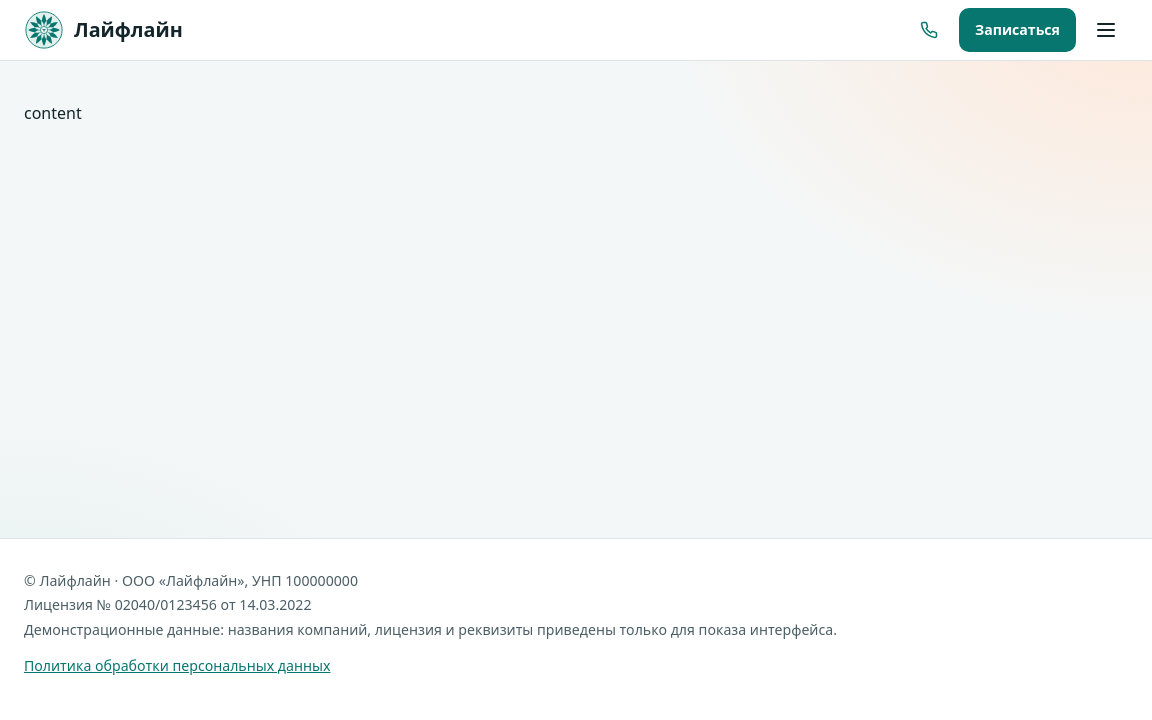
Scenario: PublicShell › should open a drawer with the sections, the sign-in, the phone and the switches when the burger is pressed, and close it again
The width and height of the screenshot is (1152, 720).
Step 1. Click the button named "Открыть меню" → {"x": 1106, "y": 30}, box [1084,8,1128,52]
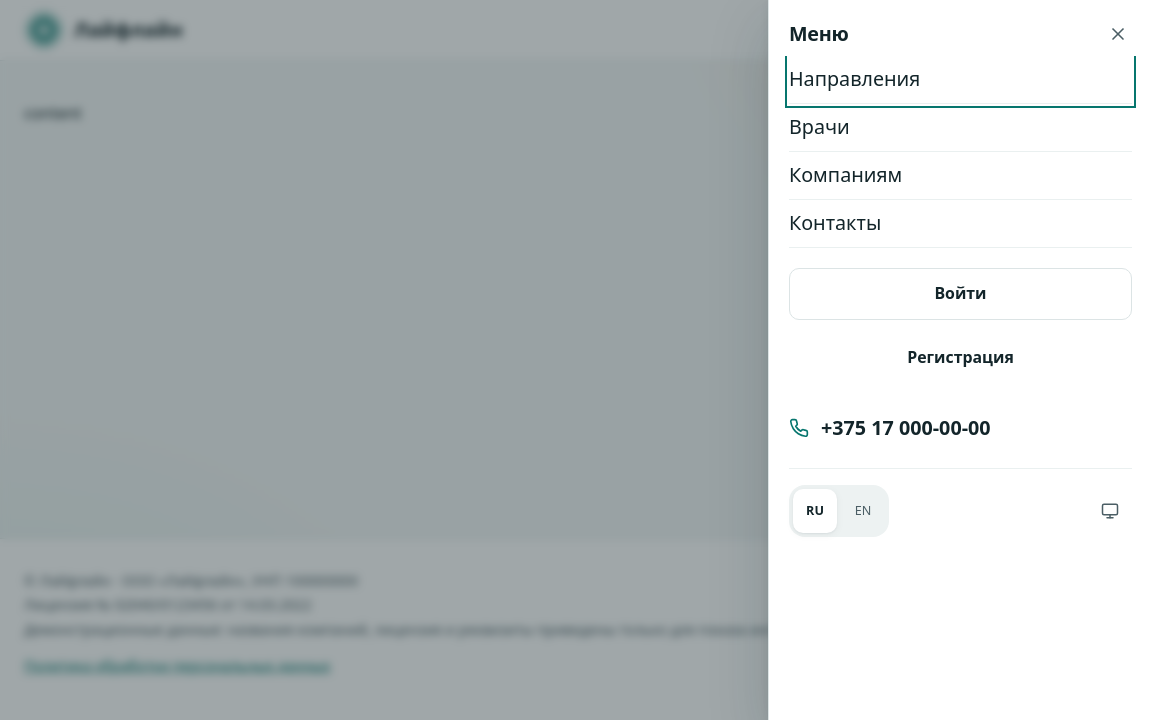
Expected: the element named "Язык" is shown, [789,485,889,537]
Step 2. Click the link "Врачи" → {"x": 819, "y": 127}, box [789,104,1132,152]
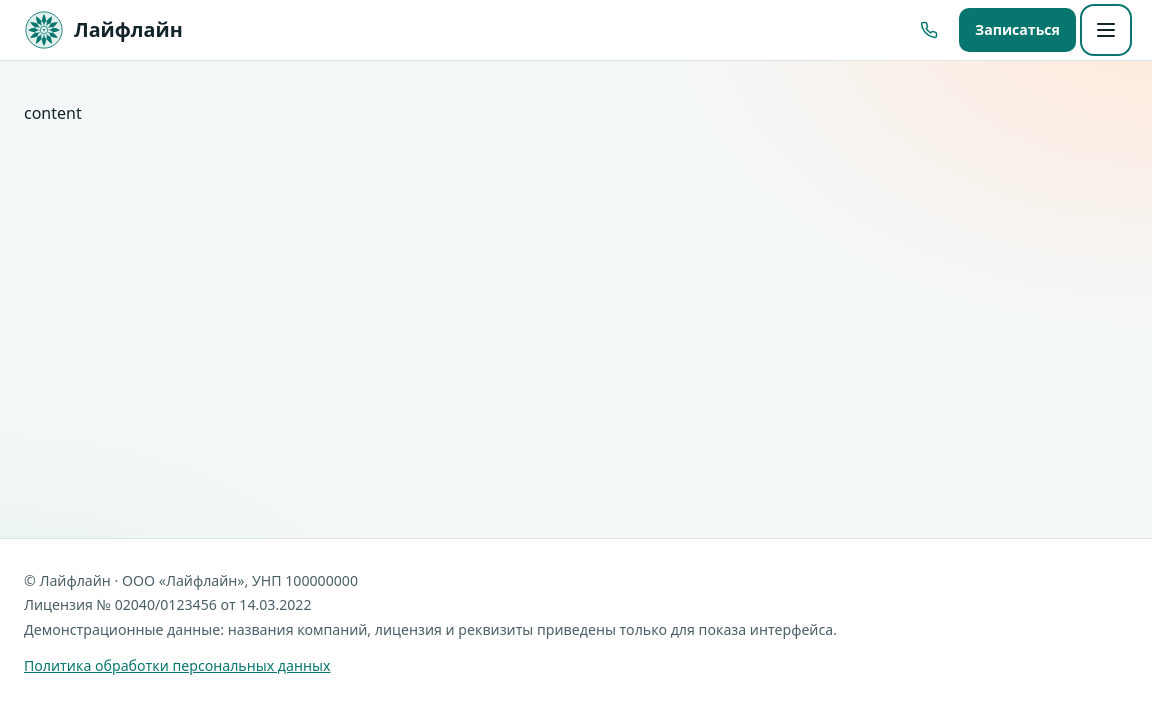
Expected: the dialog is gone
